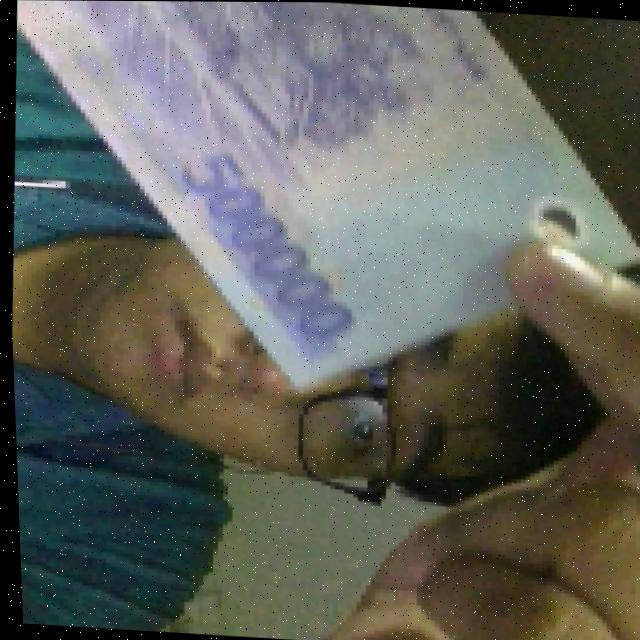500 000 VND: (0, 0, 640, 417)
